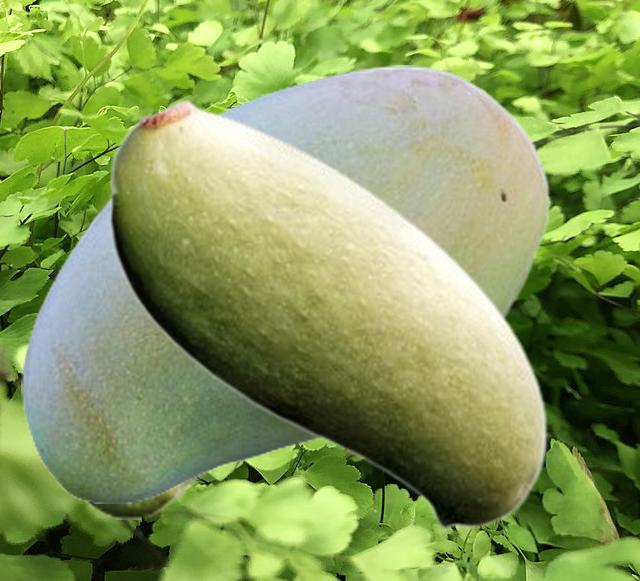green_mango: (21, 65, 550, 502), (108, 97, 547, 530), (74, 469, 217, 518)
